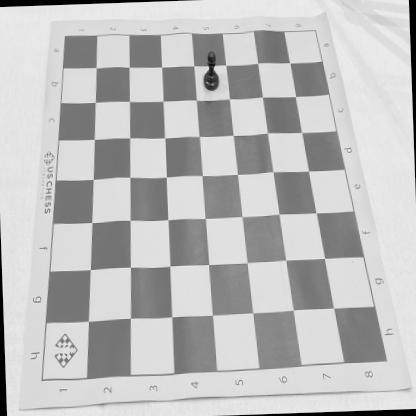pawn: (202, 52, 220, 92)
